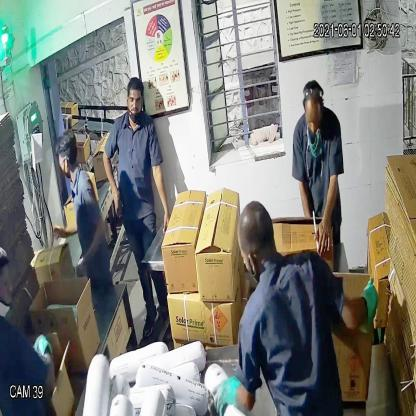no_goggles: (302, 107, 326, 129), (123, 90, 147, 111)
